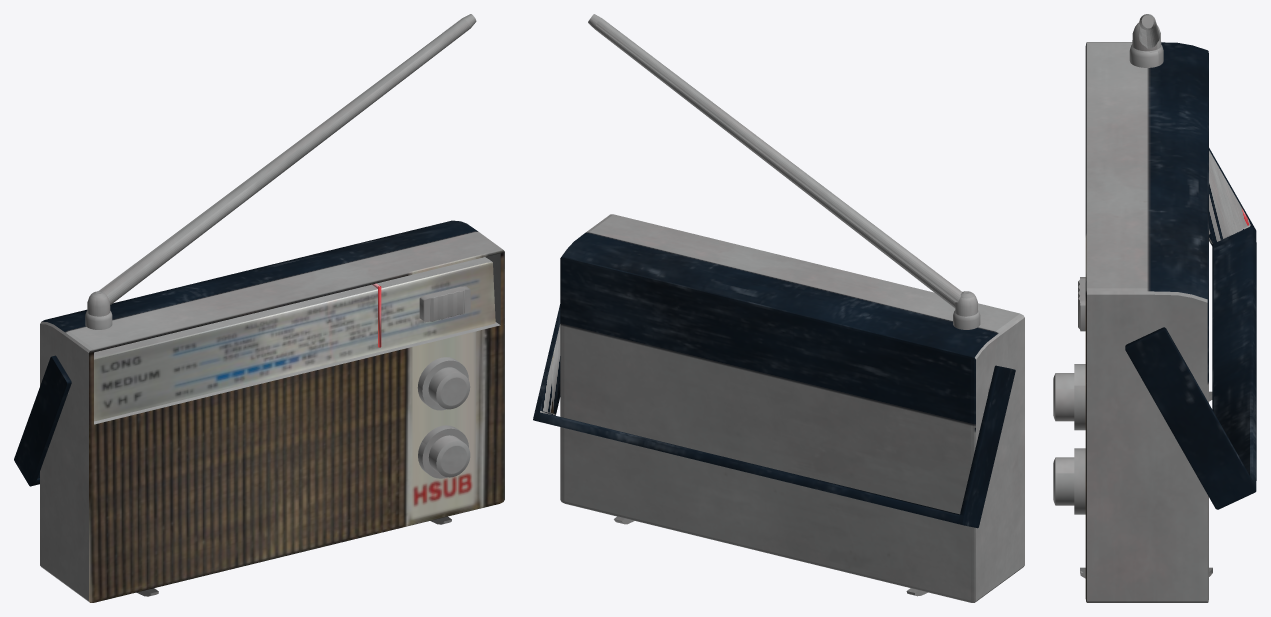
The model's file is Radio.fbx.
The picture shows the model from 3 angles, left to right: view 1: azimuth 30°, elevation 25°; view 2: azimuth 150°, elevation 25°; view 3: azimuth 270°, elevation 25°; orthographic projection. The views are drawn at different scales.
Parts seen in each view (by area): view 1: Radio; view 2: Radio; view 3: Radio.
Boxes of the visible parts, x1,y1,x2,y2 form: Radio: [14, 14, 504, 602]; Radio: [533, 14, 1024, 602]; Radio: [1053, 14, 1256, 602].
Size of the model in its own units: 41.4 by 44.57 by 13.7.
1 material, 1 textured.
